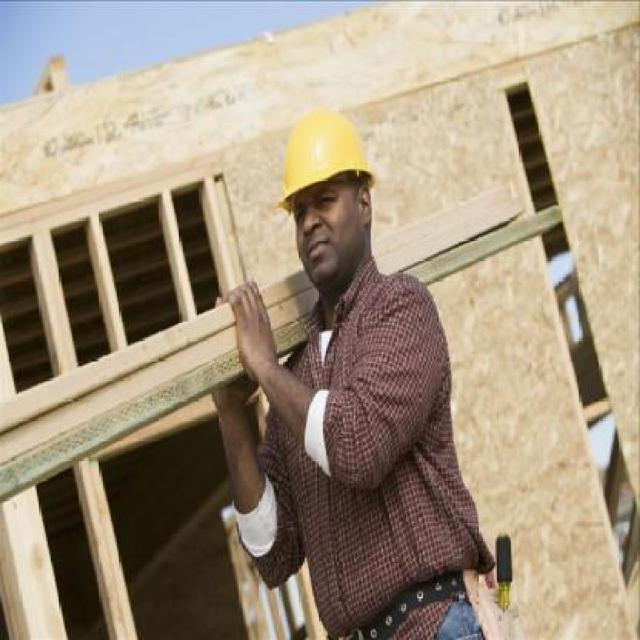safetyhelmet: (270, 107, 378, 286)
